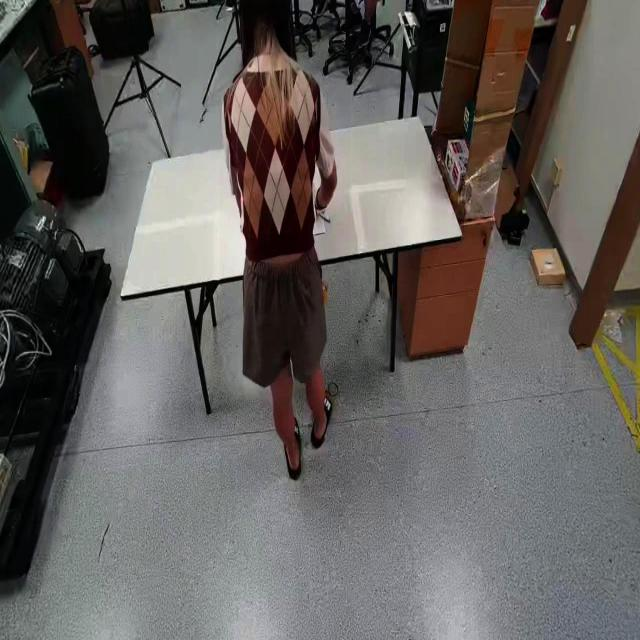person: (219, 2, 351, 492)
